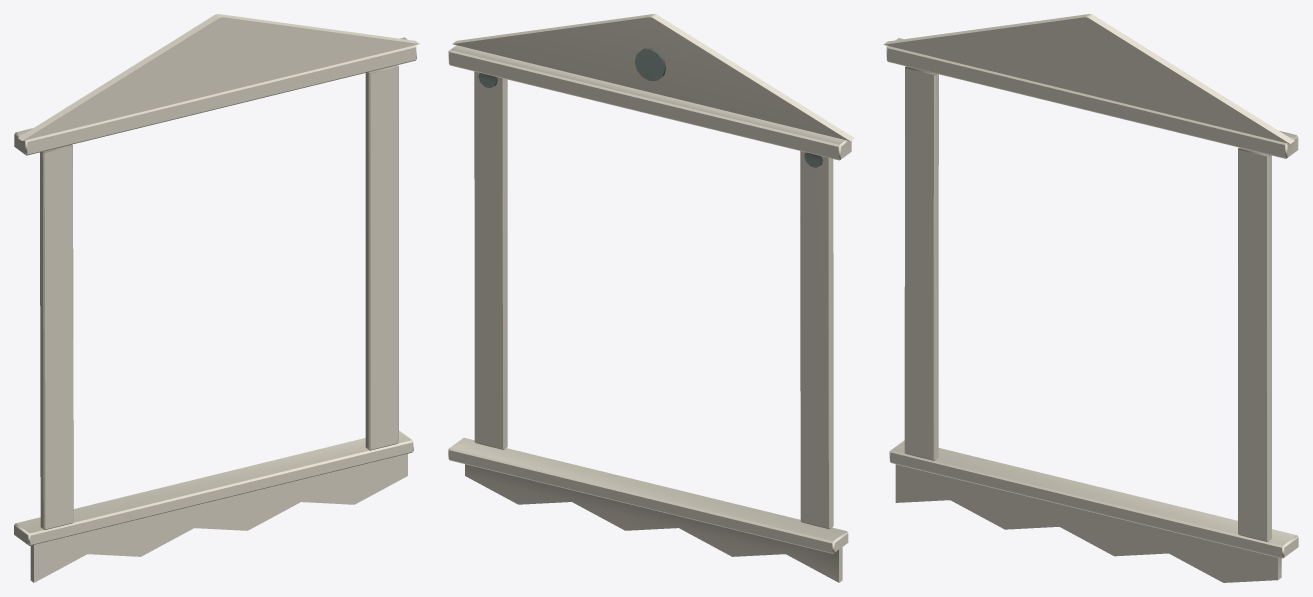
The model's file is window_casing.glb.
3 views of the same model, side by side, from view 1: azimuth 30°, elevation 25°; view 2: azimuth 150°, elevation 25°; view 3: azimuth 330°, elevation 25° (orthographic). The views are drawn at different scales.
Visible parts, largest first — view 1: static; view 2: static; view 3: static.
Part boxes in pixels (box(x1,y1,x2,y2)): static: box(14, 14, 419, 582); static: box(448, 14, 854, 582); static: box(883, 14, 1298, 582).
Size of the model in its own units: 1.32 by 1.65 by 0.0916.
